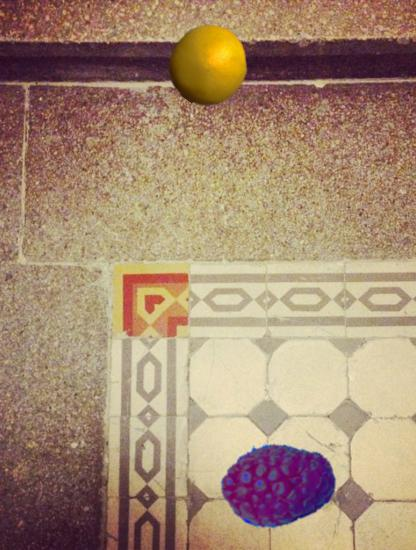Grapefruit: (168, 25, 249, 106)
Raspberry: (221, 426, 336, 541)
